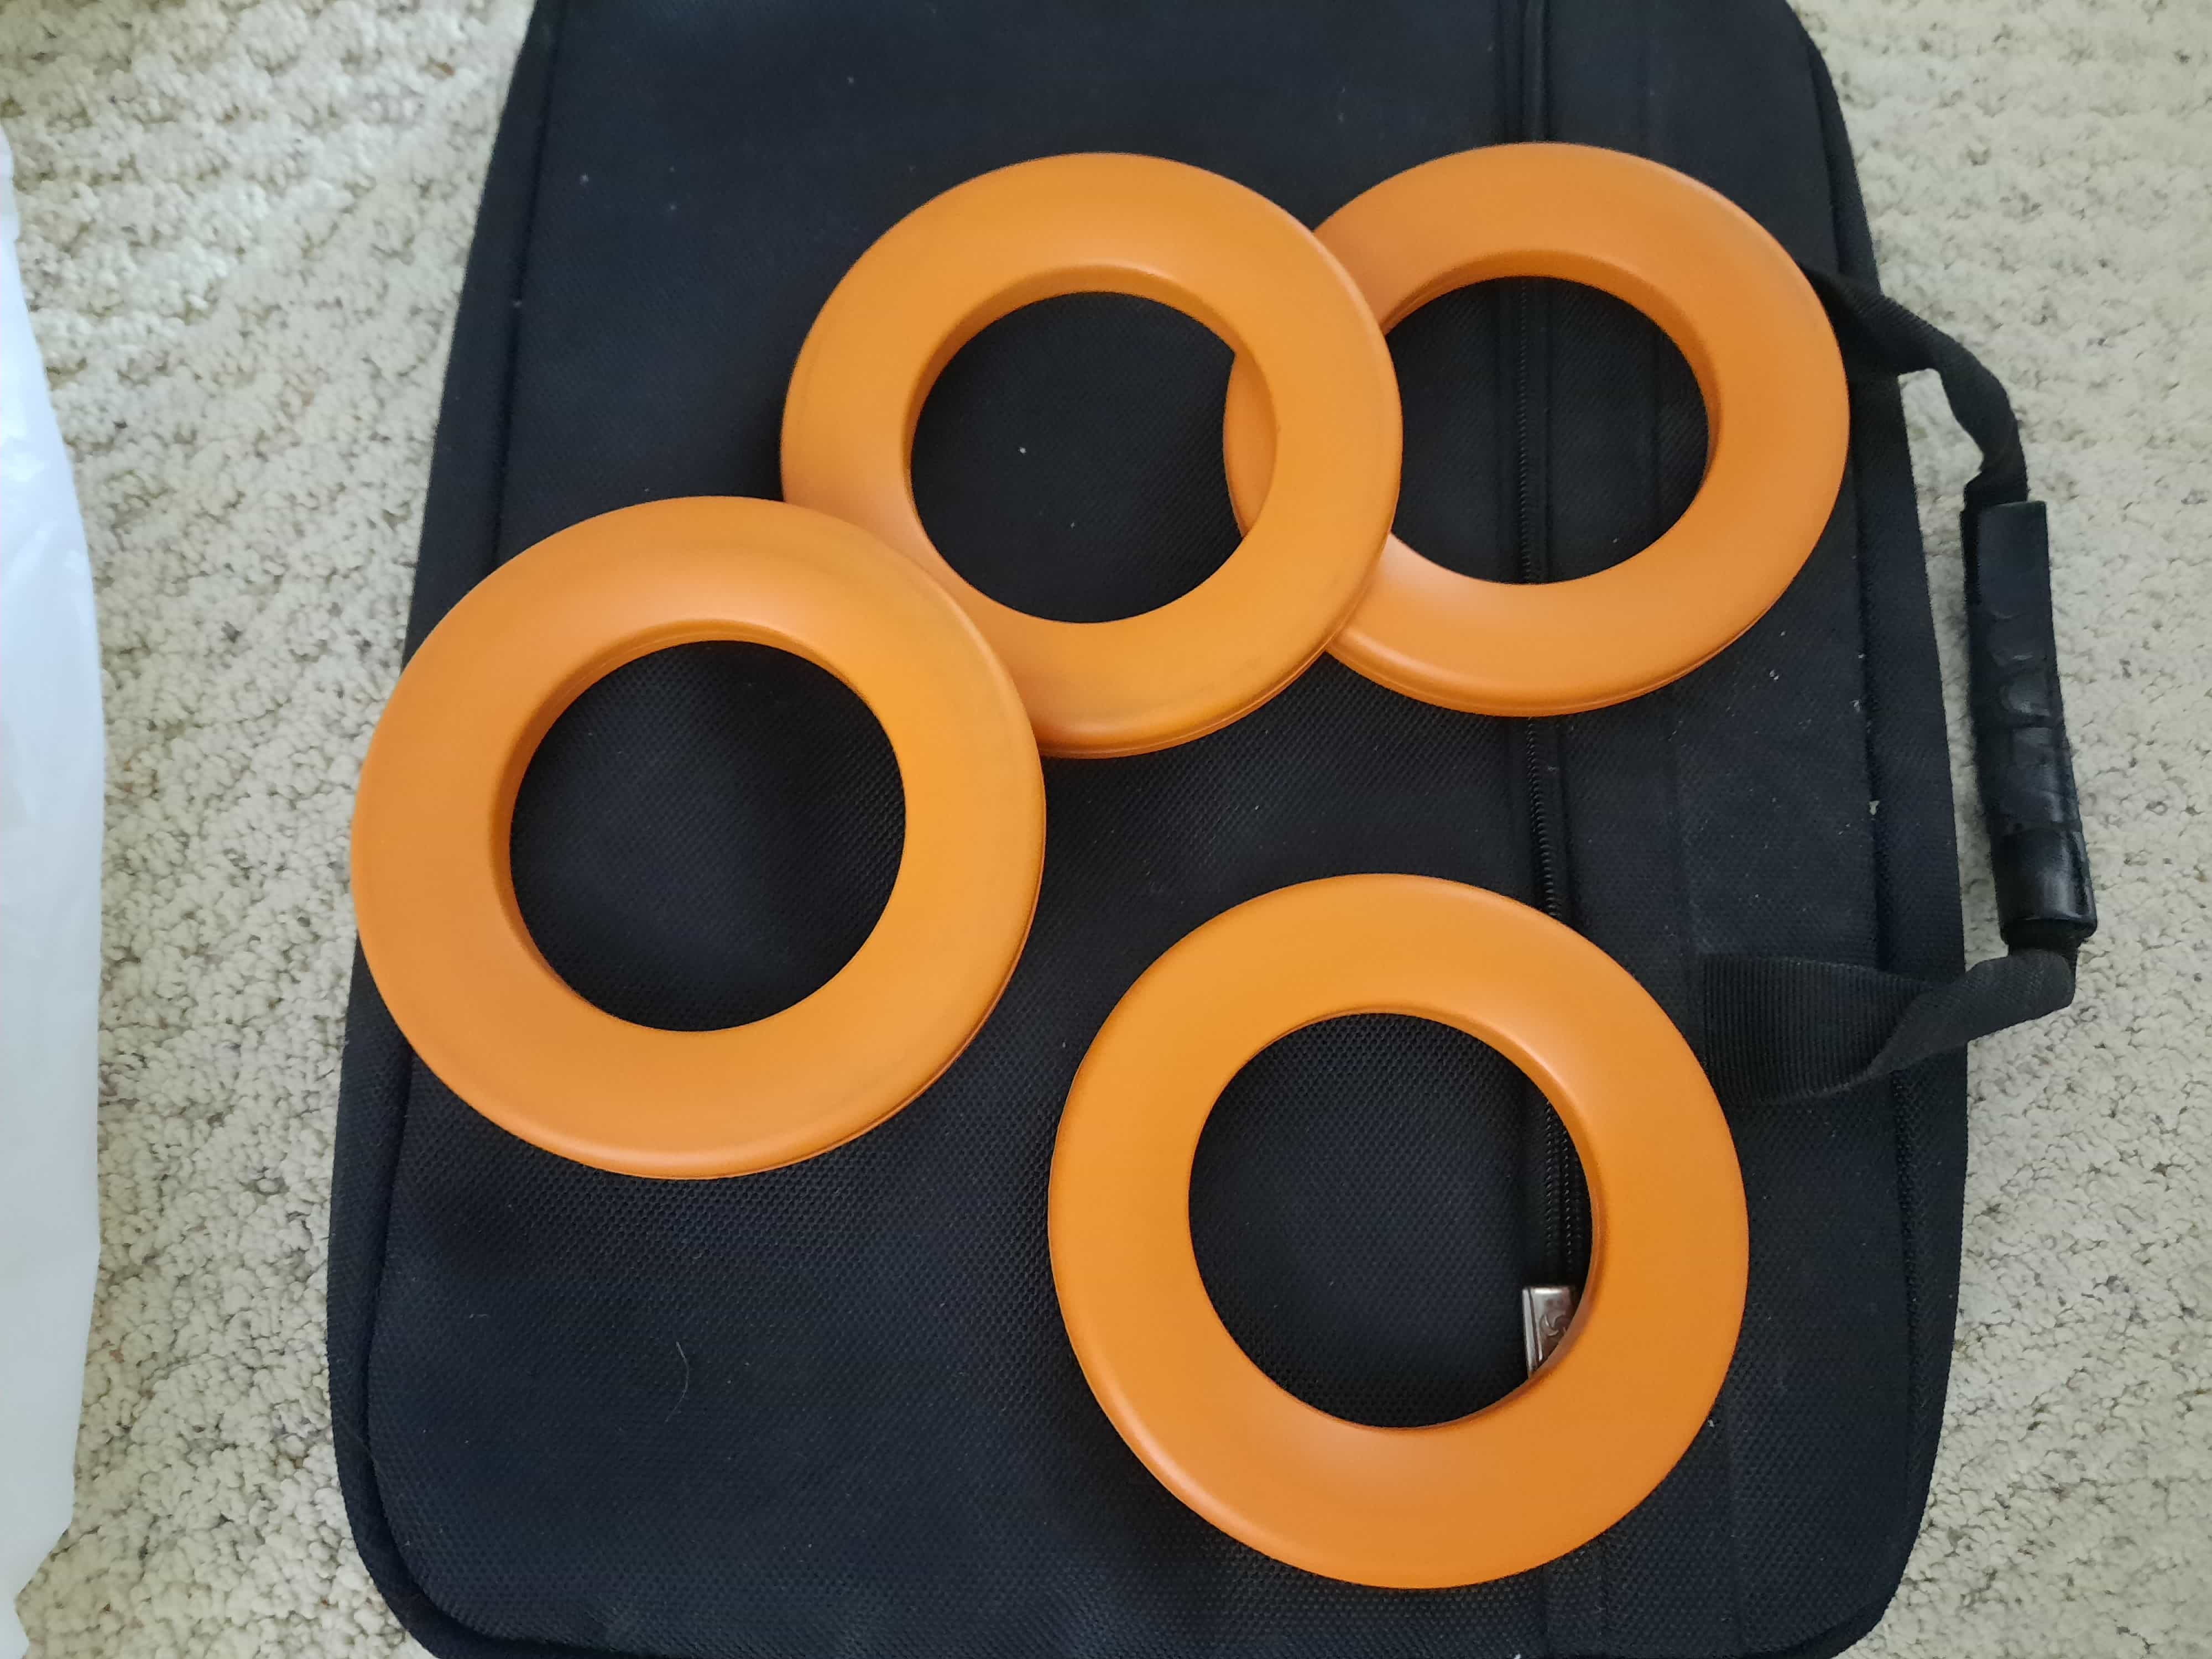OneStack: (1059, 856, 1750, 1593), (347, 495, 1045, 1166), (756, 157, 1400, 763), (1233, 132, 1851, 742)
